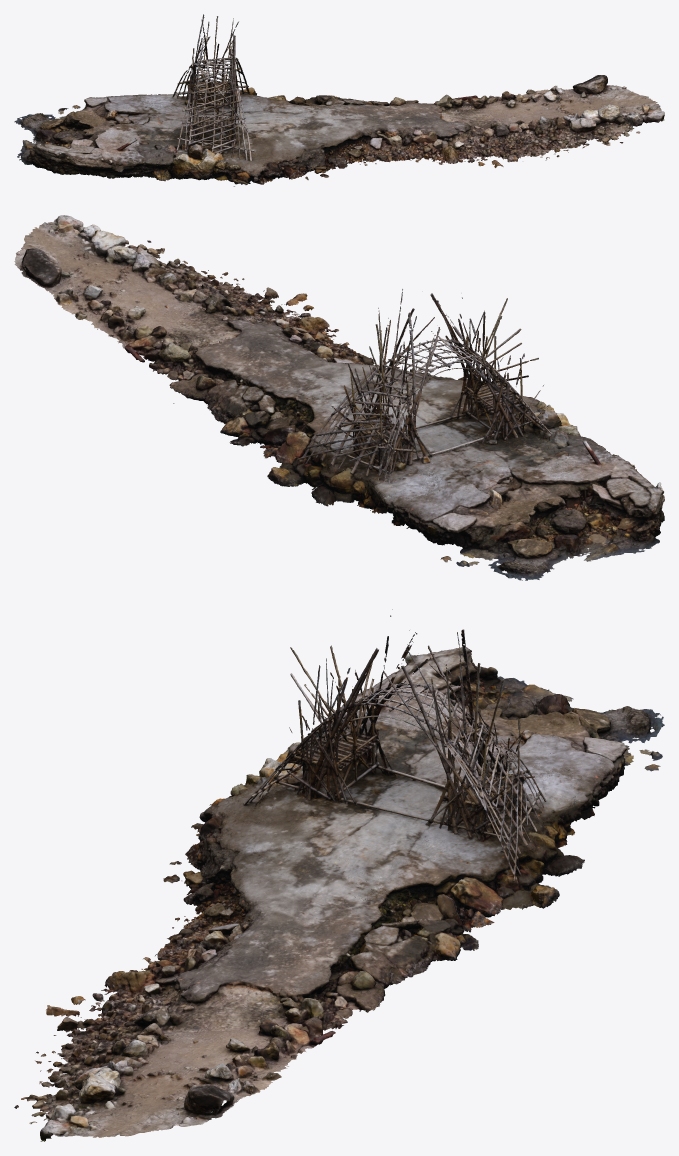
The model's file is 400kArtworkonly_glb.glb.
3 renders of one model, top to bottom at view 1: azimuth 30°, elevation 25°; view 2: azimuth 150°, elevation 25°; view 3: azimuth 270°, elevation 25°, orthographic. The views are drawn at different scales.
Size of the model in its own units: 25.31 by 5.53 by 14.57.
1 material, 1 textured.
